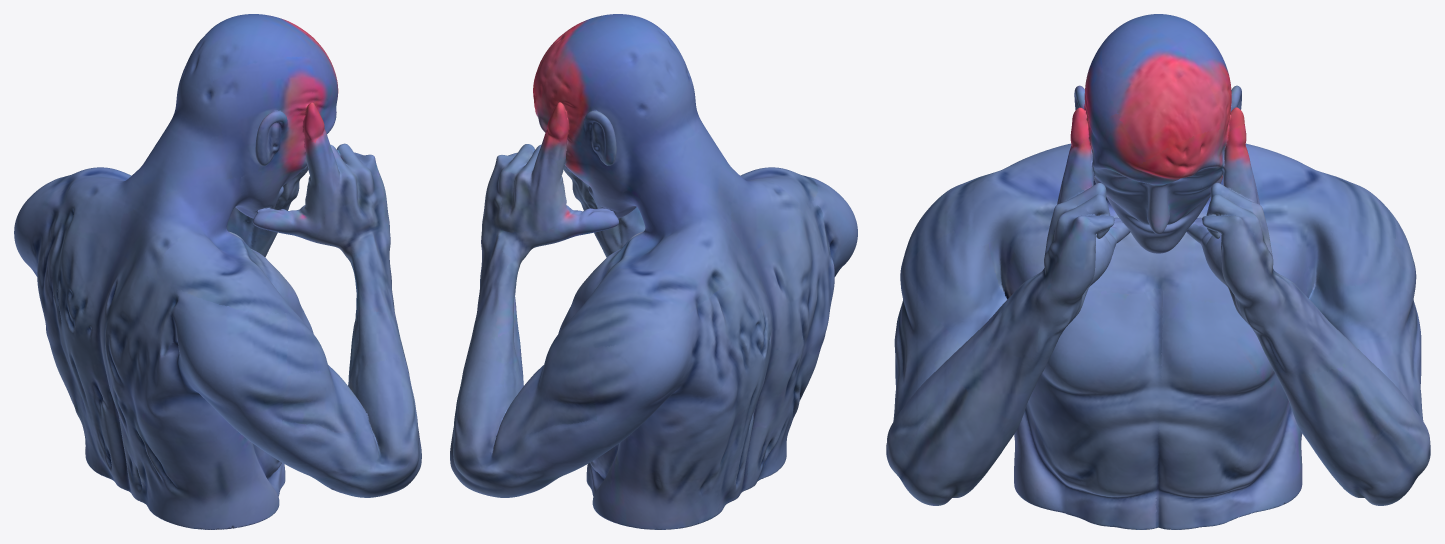
Rendered from migraine2.glb.
3 renders of one model, left to right at view 1: azimuth 30°, elevation 25°; view 2: azimuth 150°, elevation 25°; view 3: azimuth 270°, elevation 25°, orthographic. The views are drawn at different scales.
Visible parts, largest first — view 1: Migraine; view 2: Migraine; view 3: Migraine.
Boxes of the visible parts, left/top/right/bottom form: Migraine: left=14, top=14, right=421, bottom=529; Migraine: left=450, top=14, right=857, bottom=529; Migraine: left=886, top=14, right=1430, bottom=529.
Bounding box in the file's own units: 0.6155 × 1 × 0.9884.
1 material, 1 textured.
